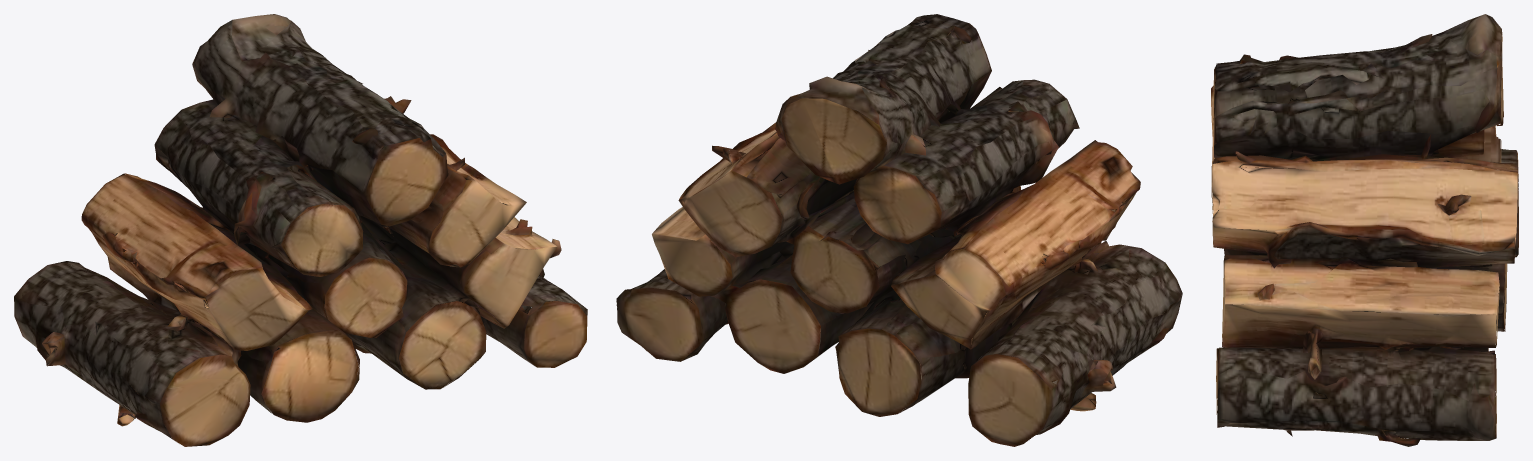
Rendered from lena.glb.
3 renders of one model, left to right at view 1: azimuth 30°, elevation 25°; view 2: azimuth 150°, elevation 25°; view 3: azimuth 270°, elevation 25°, orthographic. The views are drawn at different scales.
Parts seen in each view (by area): view 1: geometry_0; view 2: geometry_0; view 3: geometry_0.
Boxes of the visible parts, x1,y1,x2,y2 form: geometry_0: (14,14,587,446); geometry_0: (616,14,1182,446); geometry_0: (1211,14,1518,446).
Bounding box in the file's own units: 0.9 × 0.6 × 0.5001.
1 material, 1 textured.
